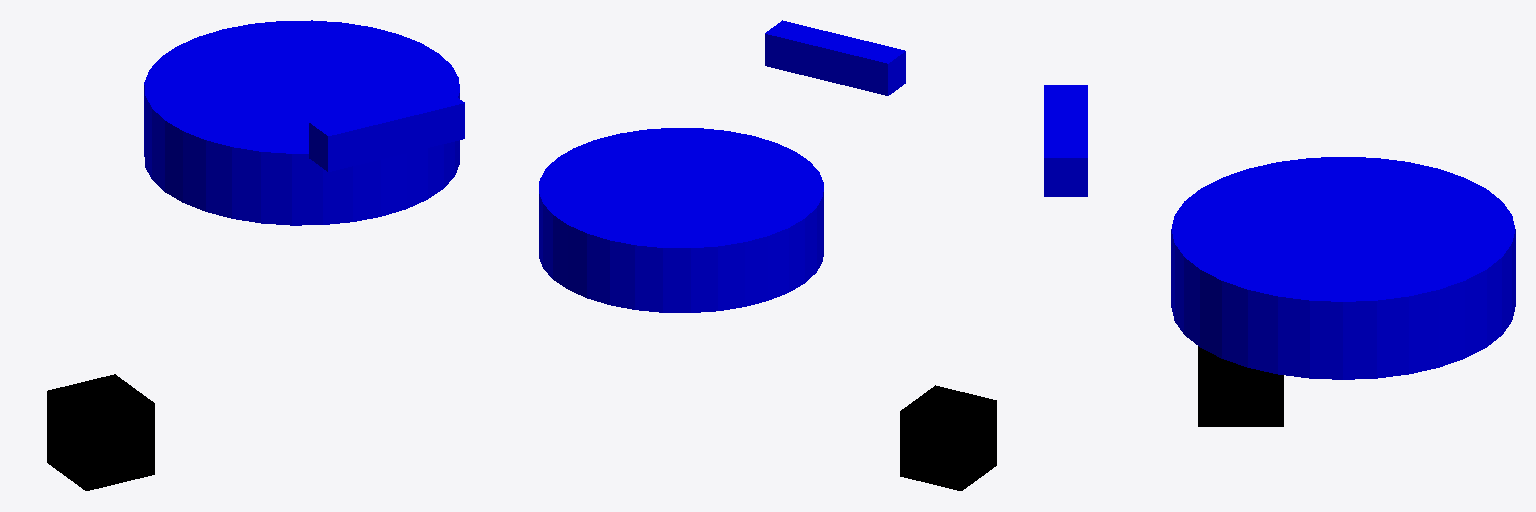
robot.urdf — baxter_gripper:
<?xml version="1.0" ?>
<!-- =================================================================================== -->
<!-- |    This document was autogenerated by xacro from [local-path]/catkin_baxter/src/baxter_common/baxter_description/urdf/baxter.urdf.xacro | -->
<!-- |    EDITING THIS FILE BY HAND IS NOT RECOMMENDED                                 | -->
<!-- =================================================================================== -->
<robot name="baxter_gripper" xmlns:xacro="http://www.ros.org/wiki/xacro">
  
  <link name="right_wrist">
    <visual>
      <origin rpy="0 0 0" xyz="0 0 0"/>
      <geometry>
        <mesh filename="meshes/wrist/W2.STL"/>
      </geometry>
      <material name="lightgrey">
        <color rgba=".1 .1 .1 1"/>
      </material>
    </visual>
    <collision>
      <origin rpy="0 0 0" xyz="0 0 0.06"/>
      <geometry>
        <cylinder length="0.0165" radius="0.06"/>
      </geometry>
    </collision>
    <inertial>
      <origin rpy="0 0 0" xyz="0.00198 0.00125 0.01855"/>
      <mass value="0.35093"/>
      <inertia ixx="0.00025289155" ixy="0.00000575311" ixz="-0.00000159345" iyy="0.0002688601" iyz="-0.00000519818" izz="0.0003074118"/>
    </inertial>
  </link>
  <link name="right_hand">
    <collision>
      <origin rpy="0 0 0" xyz="0 0 -0.0232"/>
      <geometry>
        <cylinder length="0.0464" radius="0.04"/>
      </geometry>
    </collision>
    <inertial>
      <origin rpy="0 0 0" xyz="0.01093 0.00042 -0.01532"/>
      <mass value="0.19125"/>
      <inertia ixx="0.00017588" ixy="0.00000147073" ixz="0.0000243633" iyy="0.00021166377" iyz="0.00000172689" izz="0.00023745397"/>
    </inertial>
  </link>
  <link name="right_hand_camera">
    <visual>
      <origin rpy="0 0 0" xyz="0 0 0"/>
      <geometry>
        <cylinder length="0.01" radius="0.02"/>
      </geometry>
      <material name="blue">
        <color rgba="0 0 1 0.8"/>
      </material>
    </visual>
    <inertial>
      <origin rpy="0 0 0" xyz="0 0 0"/>
      <mass value="0.0001"/>
      <inertia ixx="1e-08" ixy="0" ixz="0" iyy="1e-08" iyz="0" izz="1e-08"/>
    </inertial>
  </link>
  <link name="right_hand_camera_axis">
    <inertial>
      <origin rpy="0 0 0" xyz="0 0 0"/>
      <mass value="0.0001"/>
      <inertia ixx="1e-08" ixy="0" ixz="0" iyy="1e-08" iyz="0" izz="1e-08"/>
    </inertial>
  </link>
  <link name="right_hand_range">
    <visual>
      <origin rpy="0 0 0" xyz="0 0 0"/>
      <geometry>
        <box size="0.005 .02 .005"/>
      </geometry>
      <material name="blue">
        <color rgba="0 0 1 0.8"/>
      </material>
    </visual>
    <inertial>
      <origin rpy="0 0 0" xyz="0 0 0"/>
      <mass value="0.0001"/>
      <inertia ixx="1e-08" ixy="0" ixz="0" iyy="1e-08" iyz="0" izz="1e-08"/>
    </inertial>
  </link>
  <link name="right_hand_accelerometer">
    <visual>
      <origin rpy="0 0 0" xyz="0 0 0"/>
      <geometry>
        <box size="0.01 0.01 0.01"/>
      </geometry>
      <material name="black">
        <color rgba="0 0 0 1"/>
      </material>
    </visual>
    <inertial>
      <origin rpy="0 0 0" xyz="0.000000 0.000000 0.000000"/>
      <mass value="0.0001"/>
      <inertia ixx="1e-08" ixy="0" ixz="0" iyy="1e-08" iyz="0" izz="1e-08"/>
    </inertial>
  </link>

  <joint name="right_hand" type="fixed">
    <origin rpy="0 0 0" xyz="0 0 0.11355"/>
    <axis xyz="0 0 1"/>
    <parent link="right_wrist"/>
    <child link="right_hand"/>
  </joint>
  <joint name="right_hand_camera" type="fixed">
    <origin rpy="0 0 -1.57079633" xyz="0.03825 0.012 0.015355"/>
    <parent link="right_hand"/>
    <child link="right_hand_camera"/>
  </joint>
  <joint name="right_hand_camera_axis" type="fixed">
    <origin rpy="0 0 0" xyz="0.03825 0.012 0.015355"/>
    <parent link="right_hand"/>
    <child link="right_hand_camera_axis"/>
  </joint>
  <joint name="right_hand_range" type="fixed">
    <origin rpy="0 -1.57079632679 -1.57079632679" xyz="0.032 -0.020245 0.0288"/>
    <parent link="right_hand"/>
    <child link="right_hand_range"/>
  </joint>
  <joint name="right_hand_accelerometer" type="fixed">
    <origin rpy="0 0 0" xyz="0.00198 0.000133 -0.0146"/>
    <parent link="right_hand"/>
    <child link="right_hand_accelerometer"/>
  </joint>

  <!-- Base of end effector -->
  <link name="right_gripper_base">
    <visual>
      <origin rpy="-1.57079632679 3.14159265359 0" xyz="0 0 0"/>
      <geometry>
        <mesh filename="meshes/electric_gripper/electric_gripper_base.STL"/>
      </geometry>
    </visual>
    <collision>
      <origin rpy="-1.57079632679 3.14159265359 0" xyz="0.0 0.0 0"/>
      <geometry>
        <cylinder length="0.1" radius="0.029"/>
      </geometry>
      <material name="darkred">
        <color rgba=".5 .1 .1 1"/>
      </material>
    </collision>
    <inertial>
      <origin rpy="-1.57079632679 3.14159265359 0" xyz="0.0 0.0 0.0"/>
      <mass value="0.3"/>
      <inertia ixx="2e-08" ixy="0" ixz="0" iyy="3e-08" iyz="0" izz="2e-08"/>
    </inertial>
  </link>
  <link name="r_gripper_l_finger">
    <visual>
      <origin rpy="0 0 -3.14159265359" xyz="0 0 0"/>
      <geometry>
        <mesh filename="meshes/electric_gripper/fingers/extended_narrow.STL"/>
      </geometry>
    </visual>
    <collision>
      <origin rpy="0 0 -3.14159265359" xyz="0 0.01725 0.0615"/>
      <geometry>
        <box size="0.01 0.0135 0.1127"/>
      </geometry>
    </collision>
    <collision>
      <origin rpy="0 0 -3.14159265359" xyz="-0.005 -0.003 0.0083"/>
      <geometry>
        <box size="0.01 0.05 0.017"/>
      </geometry>
    </collision>
    <inertial>
      <origin rpy="0 0 -3.14159265359" xyz="0 0 0"/>
      <mass value="0.02"/>
      <inertia ixx="0.01" ixy="0" ixz="0" iyy="0.01" iyz="0" izz="0.01"/>
    </inertial>
  </link>
  <gazebo reference="r_gripper_l_finger">
    <mu1>1000</mu1>
    <mu2>1000</mu2>
    <fdir1>0.0 0.0 1.0</fdir1>
    <kp>1e5</kp>
    <kd>1.0</kd>
  </gazebo>
  <link name="r_gripper_l_finger_tip">
    <visual>
      <origin rpy="0 0 3.14159265359" xyz="0 0 0"/>
      <geometry>
        <mesh filename="meshes/electric_gripper/fingers/half_round_tip.STL"/>
      </geometry>
    </visual>
    <collision>
      <origin rpy="0 0 3.14159265359" xyz="0 -0.0045 -0.015"/>
      <geometry>
        <cylinder length="0.037" radius="0.008"/>
      </geometry>
    </collision>
    <inertial>
      <origin rpy="0 0 3.14159265359" xyz="0 0 0"/>
      <mass value="0.01"/>
      <inertia ixx="0.01" ixy="0" ixz="0" iyy="0.01" iyz="0" izz="0.01"/>
    </inertial>
  </link>
  <joint name="r_gripper_l_finger_tip_joint" type="fixed">
    <origin rpy="0 0 0" xyz="0.0 0.01725 0.1127"/>
    <parent link="r_gripper_l_finger"/>
    <child link="r_gripper_l_finger_tip"/>
  </joint>
  <link name="r_gripper_r_finger">
    <visual>
      <origin rpy="0 0 -0.0" xyz="0 0 0"/>
      <geometry>
        <mesh filename="meshes/electric_gripper/fingers/extended_narrow.STL"/>
      </geometry>
    </visual>
    <collision>
      <origin rpy="0 0 -0.0" xyz="0 -0.01725 0.0615"/>
      <geometry>
        <box size="0.01 0.0135 0.1127"/>
      </geometry>
    </collision>
    <collision>
      <origin rpy="0 0 -0.0" xyz="0.005 0.003 0.0083"/>
      <geometry>
        <box size="0.01 0.05 0.017"/>
      </geometry>
    </collision>
    <inertial>
      <origin rpy="0 0 -0.0" xyz="0 0 0"/>
      <mass value="0.02"/>
      <inertia ixx="0.01" ixy="0" ixz="0" iyy="0.01" iyz="0" izz="0.01"/>
    </inertial>
  </link>
  <gazebo reference="r_gripper_r_finger">
    <mu1>1000</mu1>
    <mu2>1000</mu2>
    <fdir1>0.0 0.0 1.0</fdir1>
    <kp>1e5</kp>
    <kd>1.0</kd>
  </gazebo>
  <link name="r_gripper_r_finger_tip">
    <visual>
      <origin rpy="0 0 0.0" xyz="0 0 0"/>
      <geometry>
        <mesh filename="meshes/electric_gripper/fingers/half_round_tip.STL"/>
      </geometry>
    </visual>
    <collision>
      <origin rpy="0 0 0.0" xyz="0 0.0045 -0.015"/>
      <geometry>
        <cylinder length="0.037" radius="0.008"/>
      </geometry>
    </collision>
    <inertial>
      <origin rpy="0 0 0.0" xyz="0 0 0"/>
      <mass value="0.01"/>
      <inertia ixx="0.01" ixy="0" ixz="0" iyy="0.01" iyz="0" izz="0.01"/>
    </inertial>
  </link>
  <joint name="r_gripper_r_finger_tip_joint" type="fixed">
    <origin rpy="0 0 0" xyz="0.0 -0.01725 0.1127"/>
    <parent link="r_gripper_r_finger"/>
    <child link="r_gripper_r_finger_tip"/>
  </joint>
  <!-- Electric Gripper Base Joint -->
  <joint name="right_gripper_base" type="fixed">
    <origin rpy="0 0 0" xyz="0 0 0.025"/>
    <parent link="right_hand"/>
    <child link="right_gripper_base"/>
  </joint>
  <!-- Electric Gripper Tip joint -->
  <joint name="right_endpoint" type="fixed">
    <origin rpy="0 0 0" xyz="0 0 0.1327"/>
    <parent link="right_gripper_base"/>
    <child link="right_gripper"/>
  </joint>
  <!-- Electric Gripper Tip link -->
  <link name="right_gripper">
    <inertial>
      <origin rpy="0 0 0" xyz="0 0 0"/>
      <mass value="0.0001"/>
      <inertia ixx="0" ixy="0" ixz="0" iyy="0" iyz="0" izz="0.0"/>
    </inertial>
  </link>
  <joint name="r_gripper_l_finger_joint" type="prismatic">
    <origin rpy="0 0 0" xyz="0.0 -0.0015 0.02"/>
    <axis xyz="0 1 0"/>
    <parent link="right_gripper_base"/>
    <child link="r_gripper_l_finger"/>
    <limit effort="20.0" lower="0.0" upper="0.020833" velocity="5.0"/>
    <dynamics damping="0.7" friction="0.0"/>
  </joint>
  <joint name="r_gripper_r_finger_joint" type="prismatic">
    <origin rpy="0 0 0" xyz="0.0 0.0015 0.02"/>
    <axis xyz="0 1 0"/>
    <parent link="right_gripper_base"/>
    <child link="r_gripper_r_finger"/>
    <limit effort="20.0" lower="-0.020833" upper="0.0" velocity="5.0"/>
    <mimic joint="r_gripper_l_finger_joint" multiplier="-1.0"/>
    <dynamics damping="0.7" friction="0.0"/>
  </joint>
  <transmission name="gripper_right1">
    <type>transmission_interface/SimpleTransmission</type>
    <joint name="r_gripper_r_finger_joint">
      <hardwareInterface>EffortJointInterface</hardwareInterface>
    </joint>
    <actuator name="gripper_r1_motor1">
      <hardwareInterface>EffortJointInterface</hardwareInterface>
      <mechanicalReduction>1</mechanicalReduction>
    </actuator>
  </transmission>
  <transmission name="gripper_right2">
    <type>transmission_interface/SimpleTransmission</type>
    <joint name="r_gripper_l_finger_joint">
      <hardwareInterface>EffortJointInterface</hardwareInterface>
    </joint>
    <actuator name="gripper_r1_motor2">
      <hardwareInterface>EffortJointInterface</hardwareInterface>
      <mechanicalReduction>1</mechanicalReduction>
    </actuator>
  </transmission>
  <gazebo reference="r_gripper_r_finger_joint">
    <implicitSpringDamper>1</implicitSpringDamper>
  </gazebo>
  <gazebo reference="r_gripper_l_finger_joint">
    <implicitSpringDamper>1</implicitSpringDamper>
  </gazebo>

</robot>

--- Facts derived from the render (not from the file) ---
Views: 3 orthographic renders of the robot side by side, from view 1: azimuth 30°, elevation 25°; view 2: azimuth 150°, elevation 25°; view 3: azimuth 270°, elevation 25°.
Robot: baxter_gripper — 12 links, 11 joints (2 prismatic, 9 fixed); root link right_wrist; default pose: every joint at zero.
Visible links, largest first — view 1: right_hand_camera, right_hand_accelerometer, right_hand_range; view 2: right_hand_camera, right_hand_accelerometer, right_hand_range; view 3: right_hand_camera, right_hand_accelerometer, right_hand_range.
Boxes of the visible links, x1,y1,x2,y2 form: right_hand_camera: [144, 20, 459, 225]; right_hand_accelerometer: [47, 374, 154, 490]; right_hand_range: [309, 89, 464, 171]; right_hand_camera: [539, 128, 823, 312]; right_hand_accelerometer: [900, 385, 996, 490]; right_hand_range: [765, 20, 905, 95]; right_hand_camera: [1171, 157, 1515, 379]; right_hand_accelerometer: [1198, 346, 1283, 426]; right_hand_range: [1044, 85, 1087, 196].
Bounding box of the posed robot: 0.0613 × 0.0547 × 0.0509 m (x, y, z).
0 mesh visuals loaded from 4 distinct referenced files (none loaded); not drawn: 6 (reference not matched to a file when rendering).